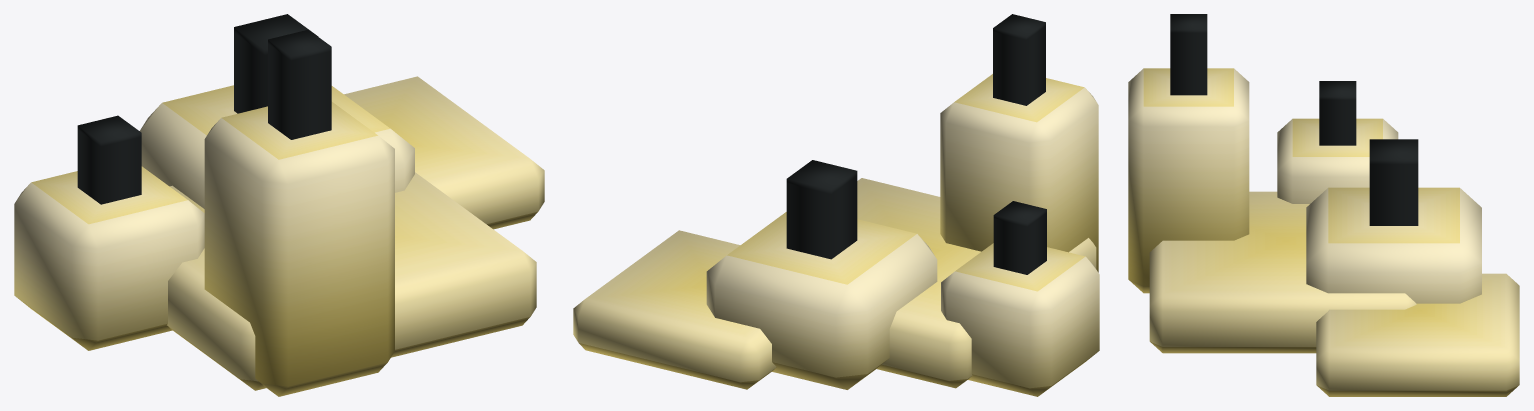
File: candle_arrangement_3.fbx
The picture shows the model from 3 angles, left to right: view 1: azimuth 30°, elevation 25°; view 2: azimuth 150°, elevation 25°; view 3: azimuth 270°, elevation 25°; orthographic projection. The views are drawn at different scales.
Parts seen in each view (by area): view 1: candle_arrangement_3; view 2: candle_arrangement_3; view 3: candle_arrangement_3.
Part boxes in pixels (left/top/right/bottom): candle_arrangement_3: left=14, top=14, right=544, bottom=396; candle_arrangement_3: left=573, top=14, right=1099, bottom=396; candle_arrangement_3: left=1128, top=14, right=1519, bottom=396.
Size of the model in its own units: 69.08 by 42.68 by 59.92.
